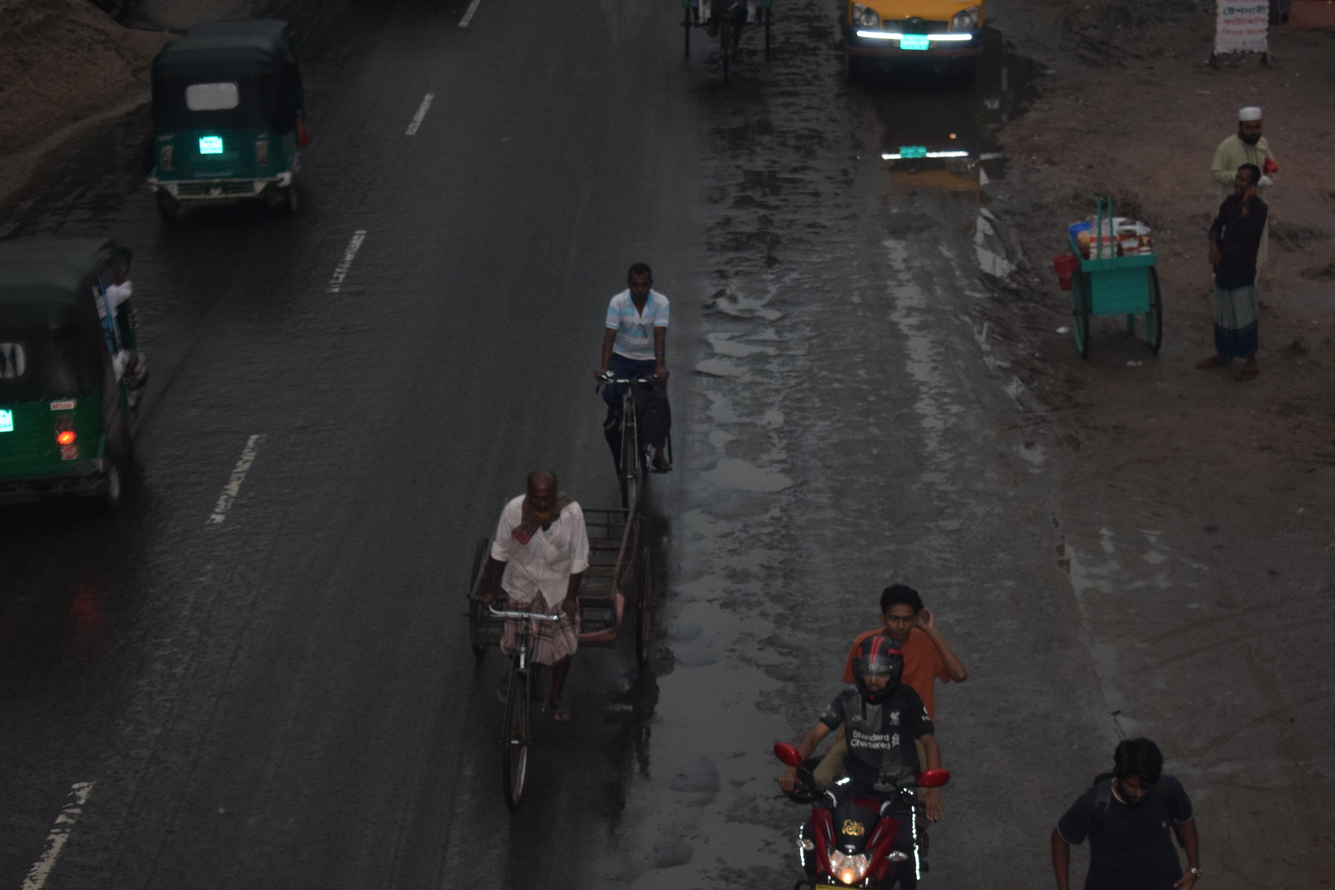Bike: (729, 584, 955, 890), (541, 247, 745, 524)
